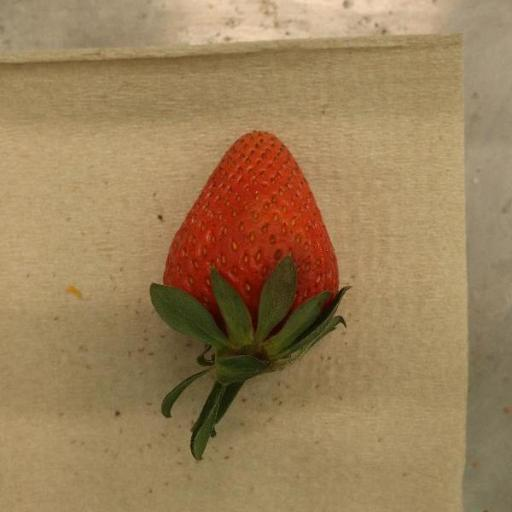Strawberry: (150, 131, 351, 462)
